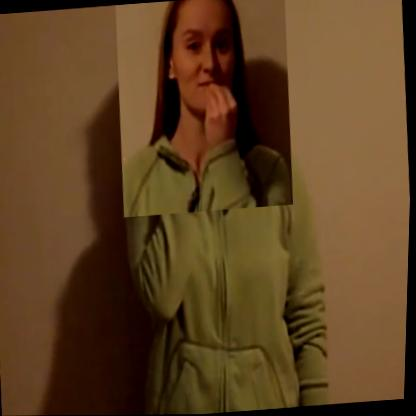Food: (111, 0, 299, 217)
